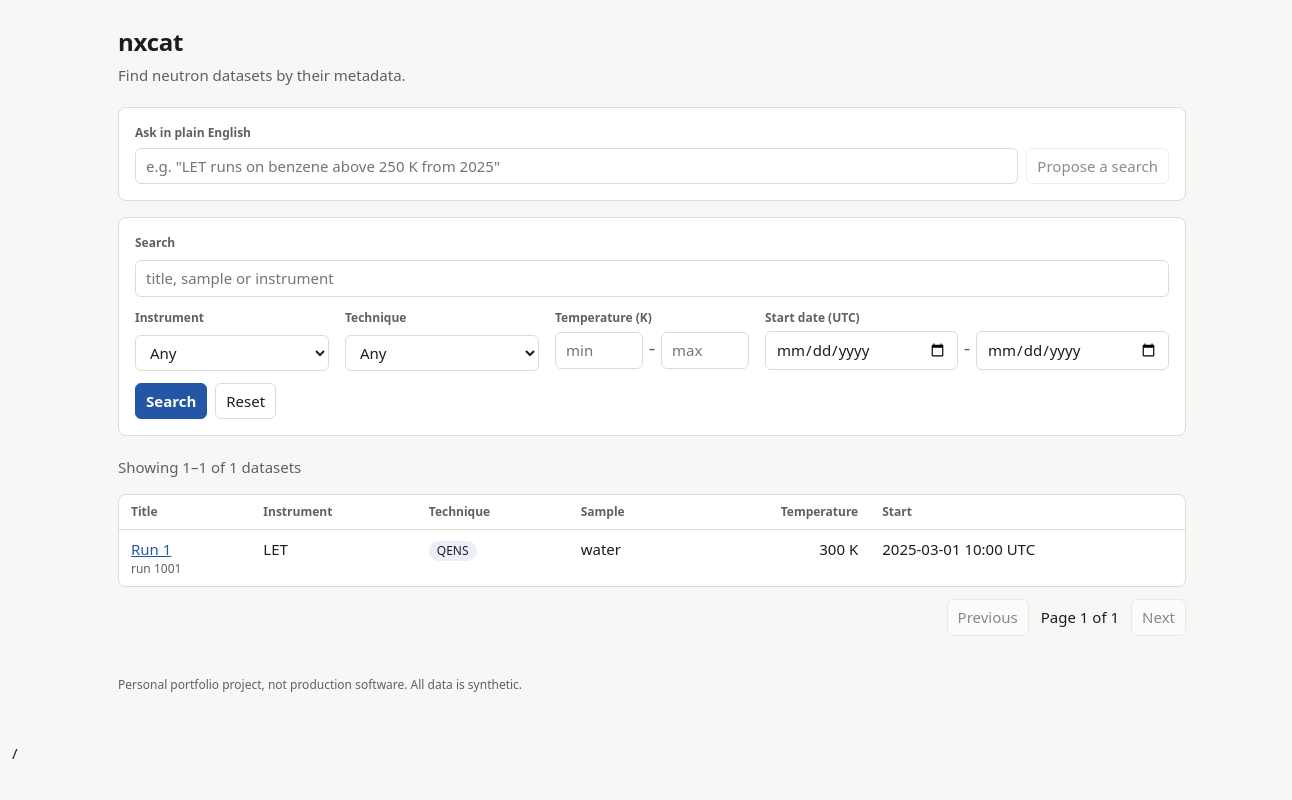
Test case: SearchPage › Reset clears the filters and searches again
Check: the table is shown, box [119,494,1185,586]
Type "water" into the search field labelled "Search" at (652, 278), box [135,260,1169,296]
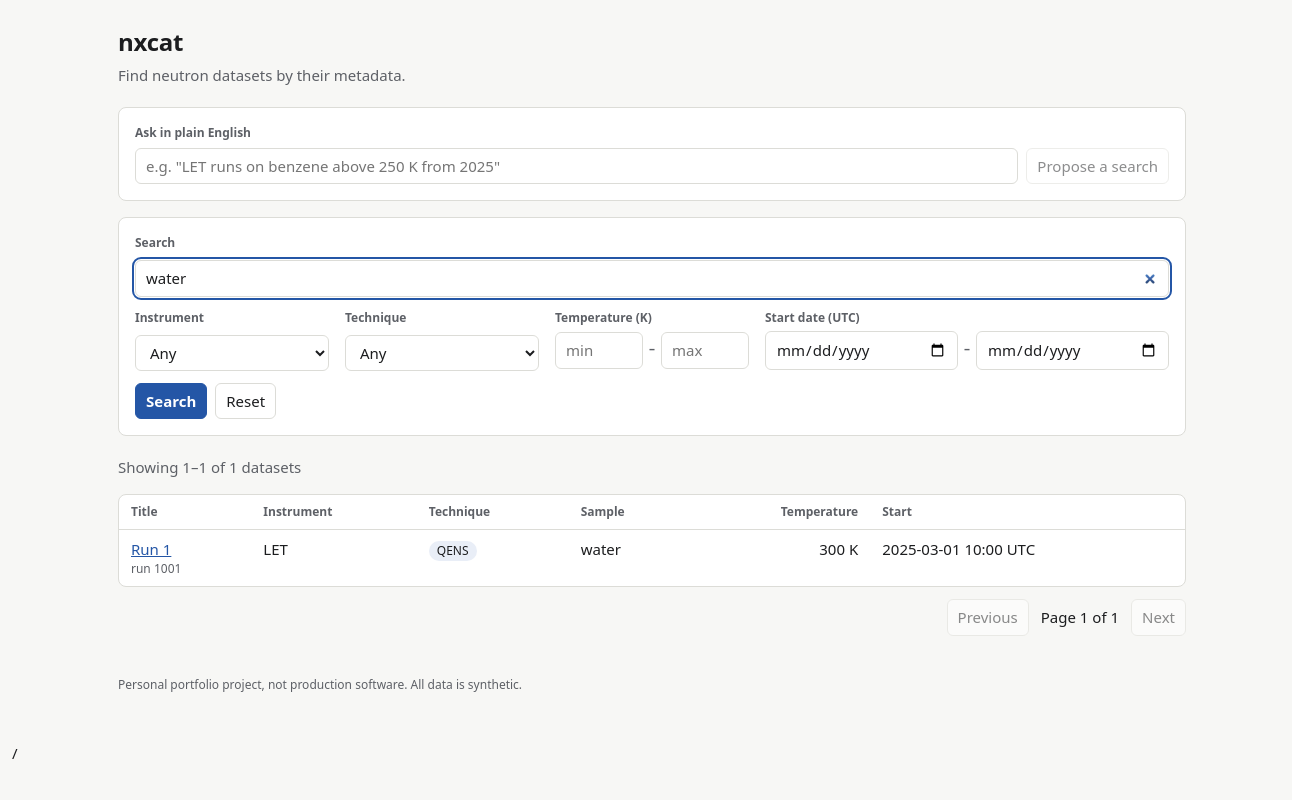
Click the button "Search" at (171, 401), box [135,382,207,419]
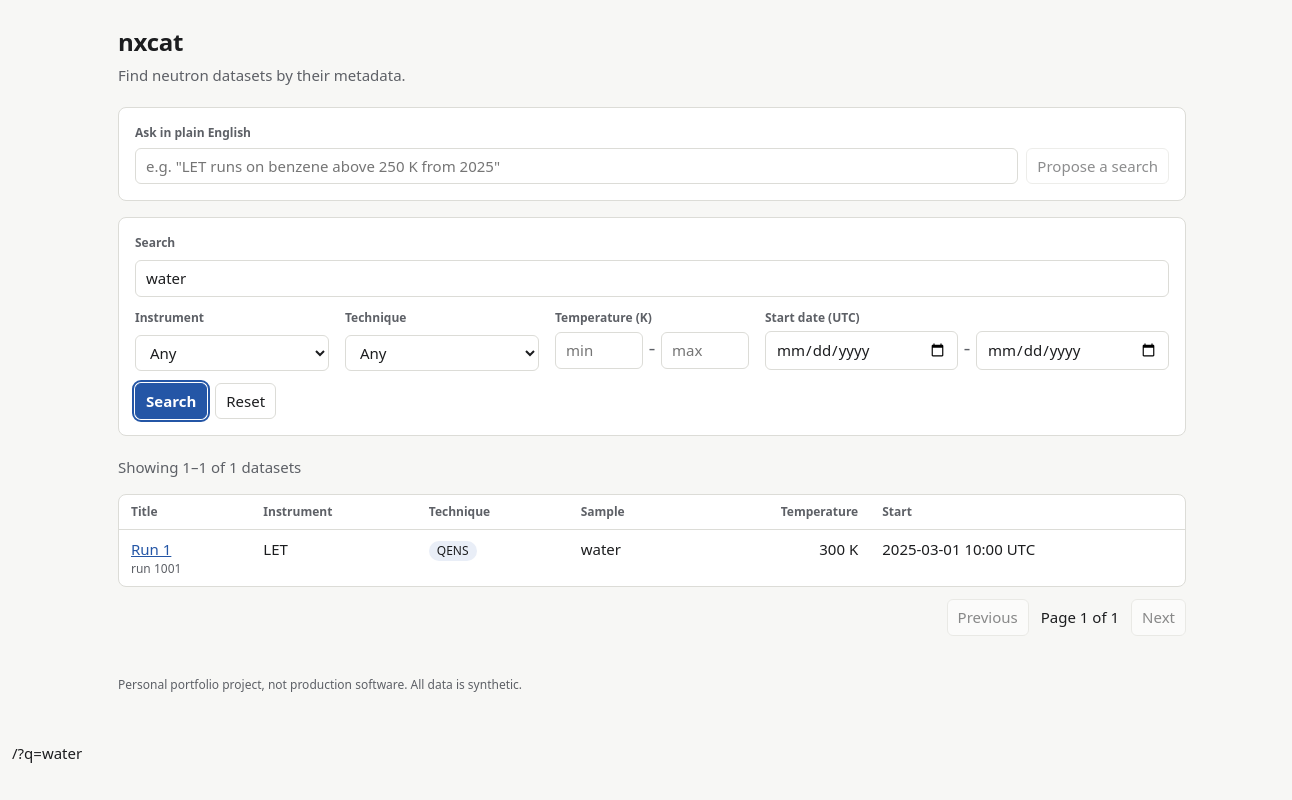
Click the button "Reset" at (246, 401), box [215,382,276,419]
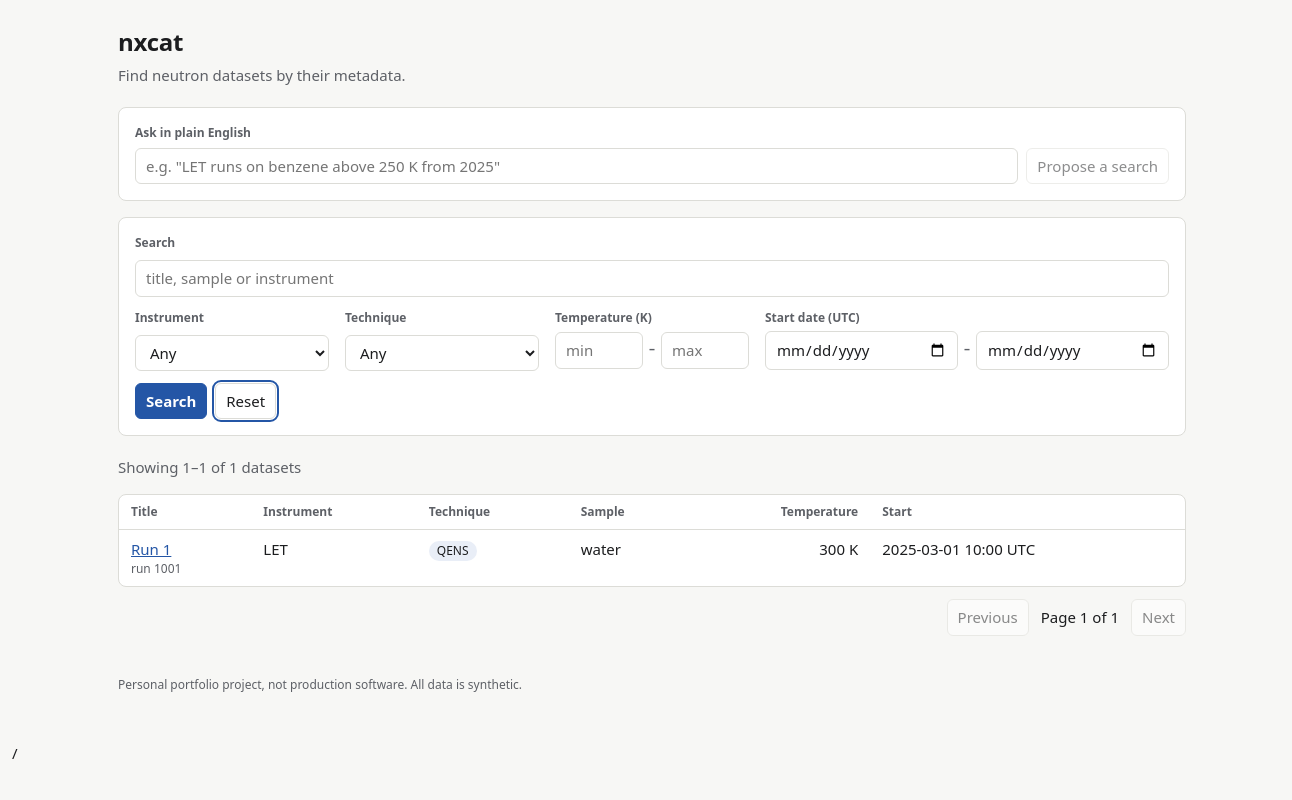
Check: the table is shown, box [119,494,1185,586]
Check: the search field labelled "Search" is empty, box [135,260,1169,296]
